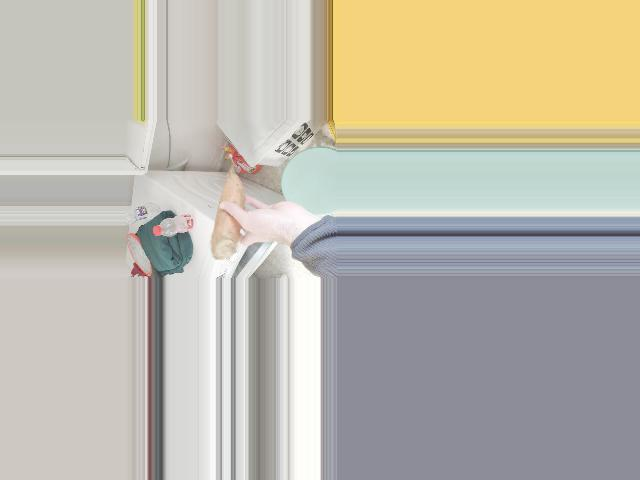sweet_potato: (218, 169, 241, 260)
